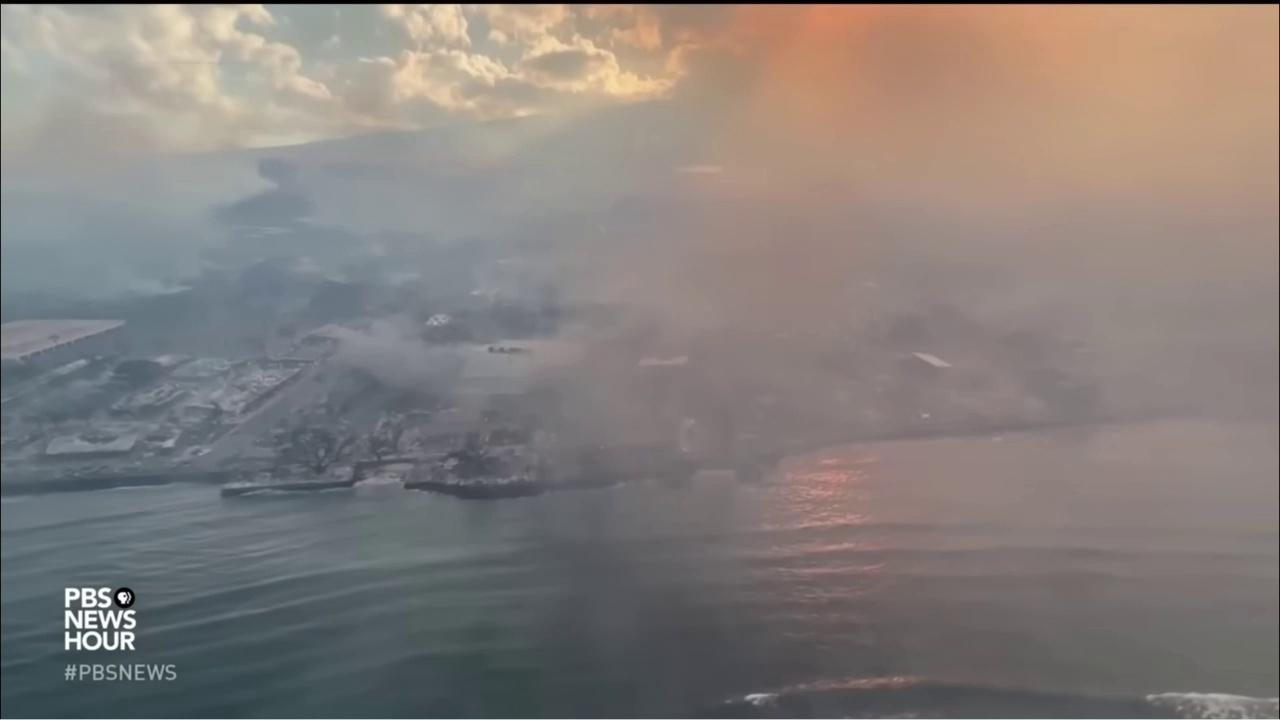smoke: (299, 3, 1280, 491), (1, 44, 280, 305)
